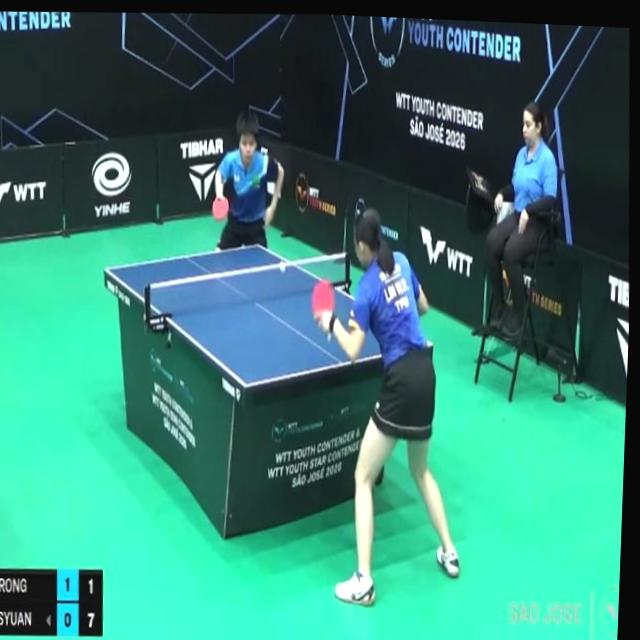TT Net: (142, 249, 352, 325)
TT Racket: (299, 274, 342, 324), (203, 194, 235, 224)
TT Table: (102, 243, 434, 386)
